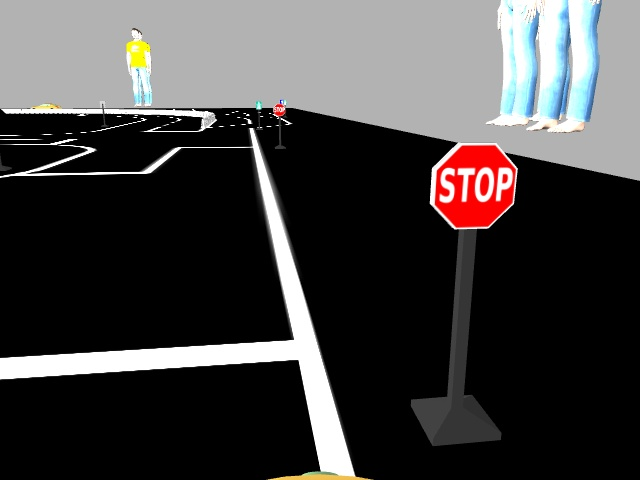Stop: (424, 134, 516, 233)
